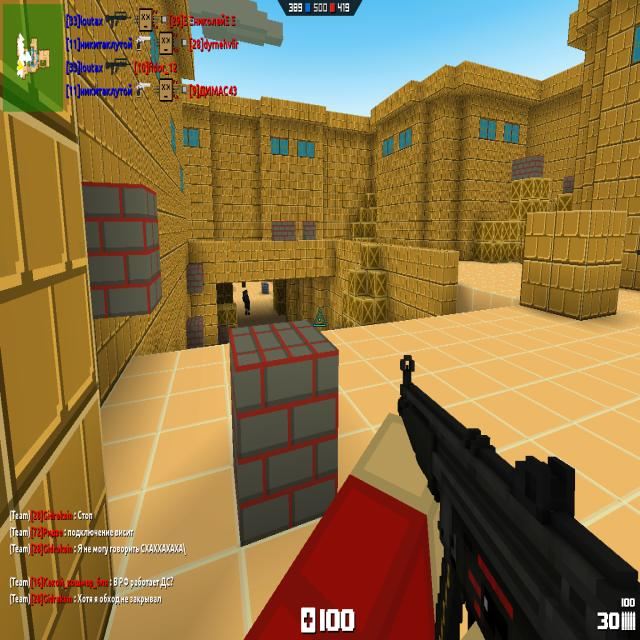enemy: (242, 289, 250, 315), (242, 282, 246, 288)
